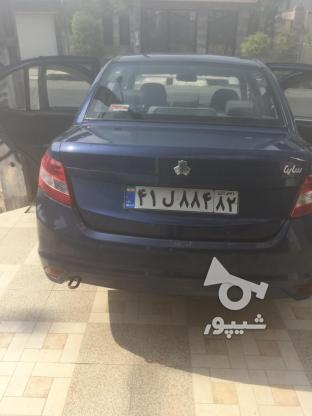car: (121, 181, 241, 217)
